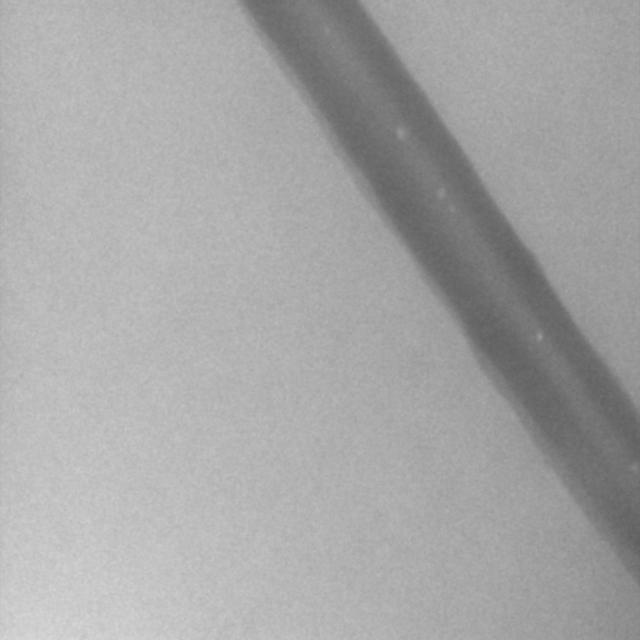air-hole: (396, 124, 409, 140), (536, 331, 545, 344), (442, 186, 447, 202), (449, 212, 457, 218), (634, 459, 637, 474)
